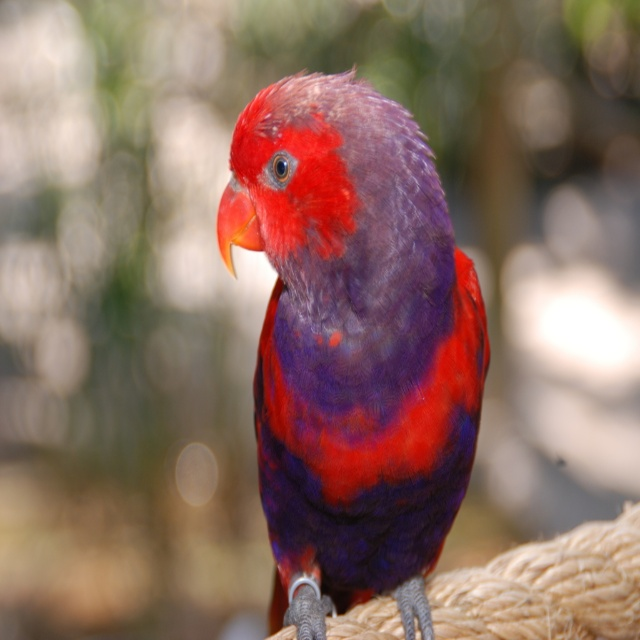Parrot: (216, 68, 492, 639)
